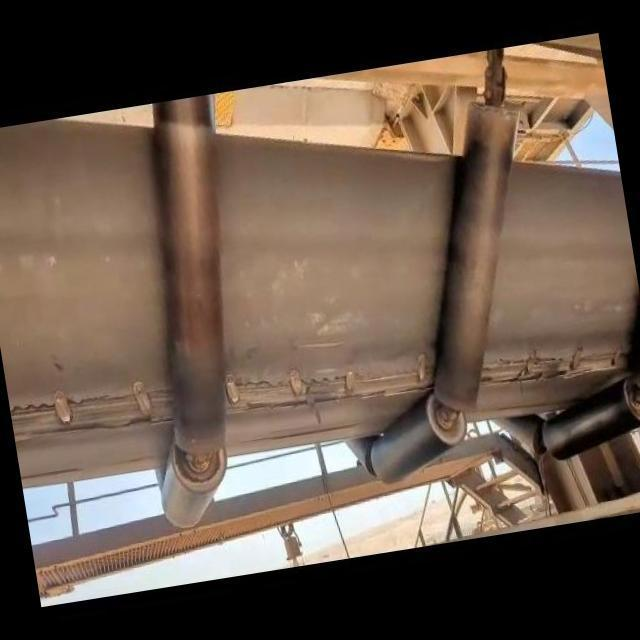Tear: (222, 348, 441, 418), (9, 375, 180, 445), (476, 338, 632, 390)
